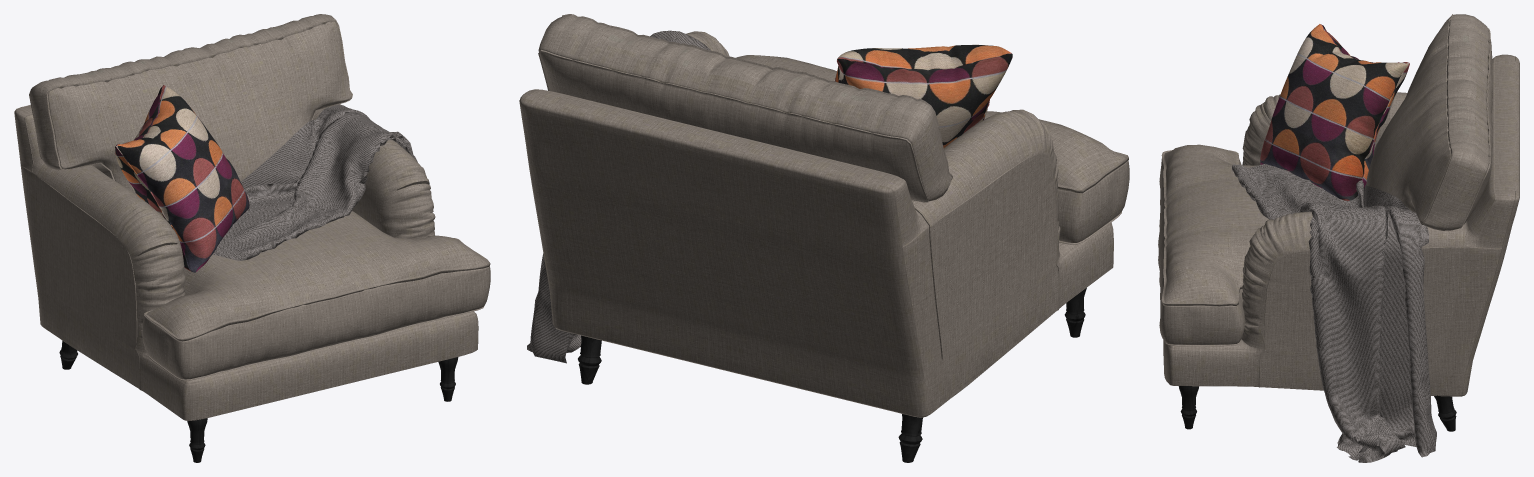
Rendered from chair1.fbx.
3 views of the same model, side by side, from view 1: azimuth 30°, elevation 25°; view 2: azimuth 150°, elevation 25°; view 3: azimuth 270°, elevation 25° (orthographic). The views are drawn at different scales.
Parts seen in each view (by area): view 1: FABRIC, THROWFABRIC, PILLOW, LEG; view 2: FABRIC, PILLOW, THROWFABRIC, LEG; view 3: FABRIC, THROWFABRIC, PILLOW, LEG.
Boxes of the visible parts, left/top/right/bottom form: FABRIC: left=14, top=14, right=490, bottom=420; THROWFABRIC: left=212, top=104, right=417, bottom=260; PILLOW: left=115, top=85, right=249, bottom=272; LEG: left=59, top=341, right=458, bottom=462; FABRIC: left=519, top=14, right=1129, bottom=417; PILLOW: left=835, top=44, right=1012, bottom=148; THROWFABRIC: left=527, top=30, right=710, bottom=363; LEG: left=578, top=288, right=1086, bottom=462; FABRIC: left=1158, top=14, right=1519, bottom=396; THROWFABRIC: left=1232, top=164, right=1436, bottom=462; PILLOW: left=1260, top=24, right=1409, bottom=200; LEG: left=1178, top=386, right=1456, bottom=431.
Bounding box in the file's own units: 115 × 87.51 × 100.
Materials: 4 (4 with a texture image).
